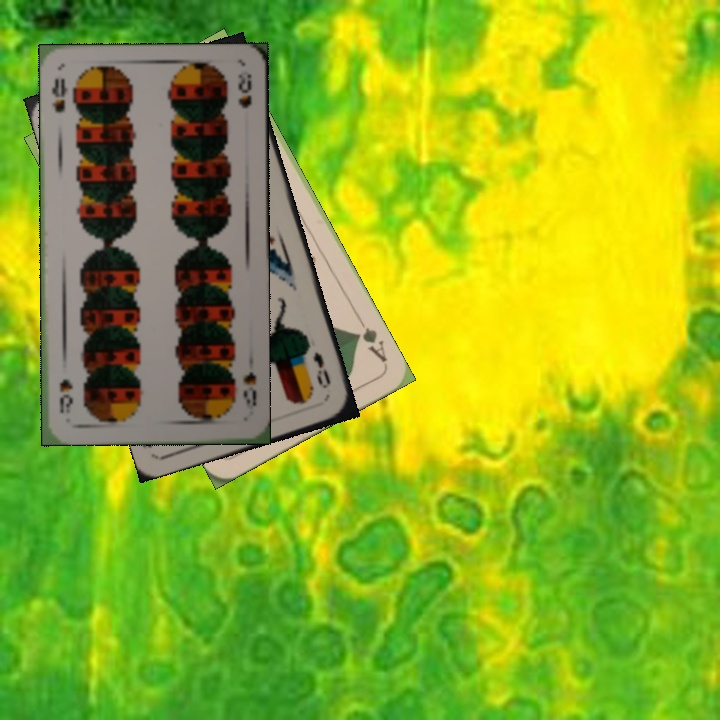EO: (309, 347, 333, 392)
GA: (350, 313, 390, 365)
S8: (239, 367, 259, 417), (47, 73, 70, 115)
